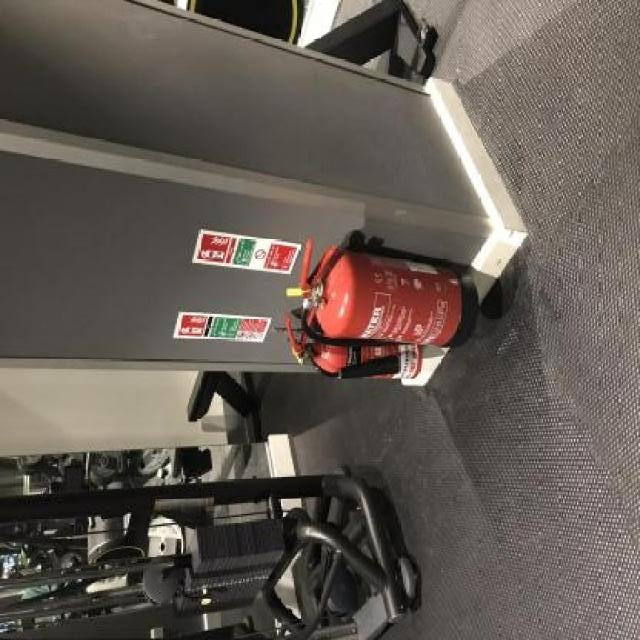fire extinguisher: (297, 240, 477, 349), (287, 311, 419, 378)
